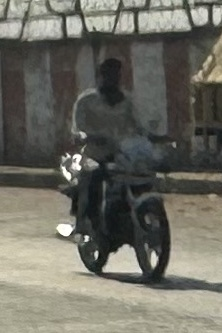BikeWithRider: (49, 51, 182, 284)
NoHelmet: (89, 53, 132, 106)
